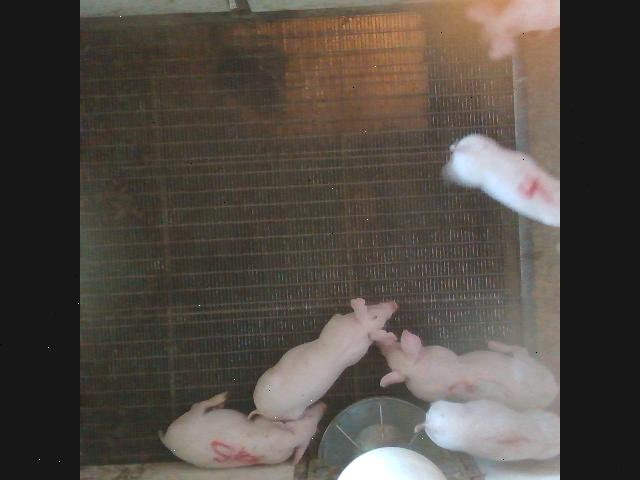pig-1: (415, 399, 559, 460)
pig-3: (380, 330, 558, 409)
pig-4: (442, 134, 559, 225)
pig-5: (160, 391, 326, 466)
